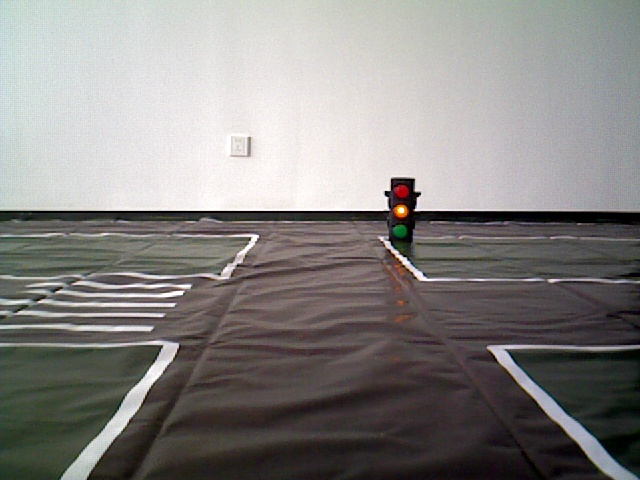yellow: (385, 177, 417, 250)
